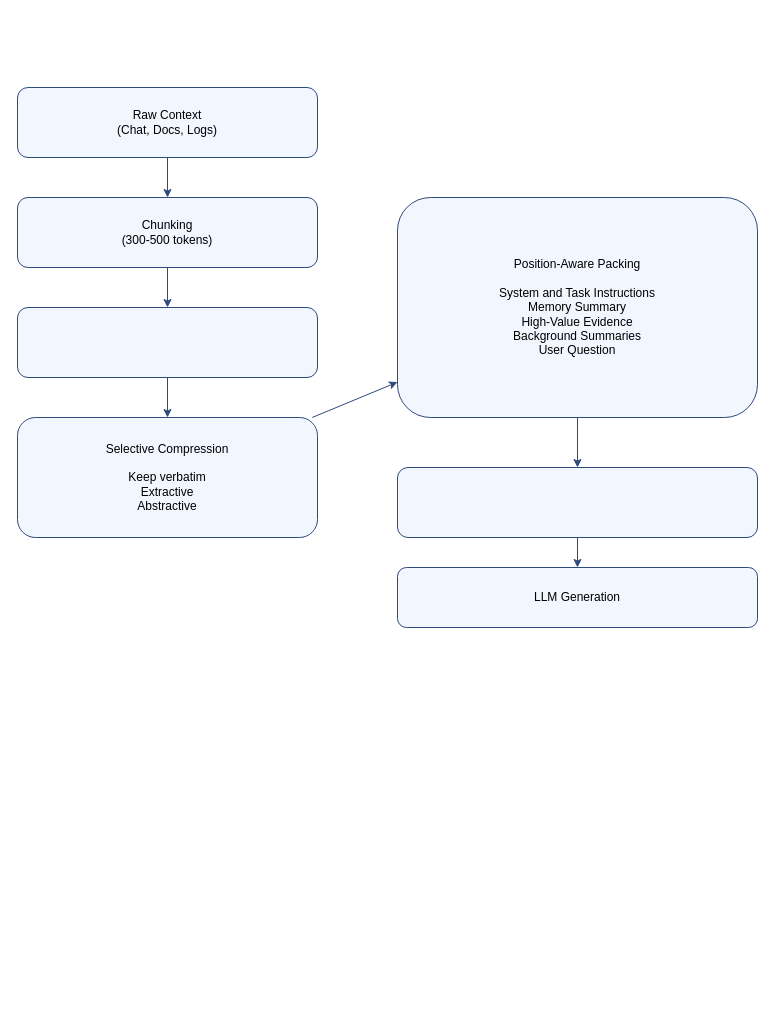
This 775x1010 diagram has some shape labels left out. Here are the shapes that lost their labels. From the top down, the centre of each, then its label:
At point 167,342: "Scoring (Relevance + Importance + Recency)".
At point 577,502: "Final Prompt (Within Token Budget)".
